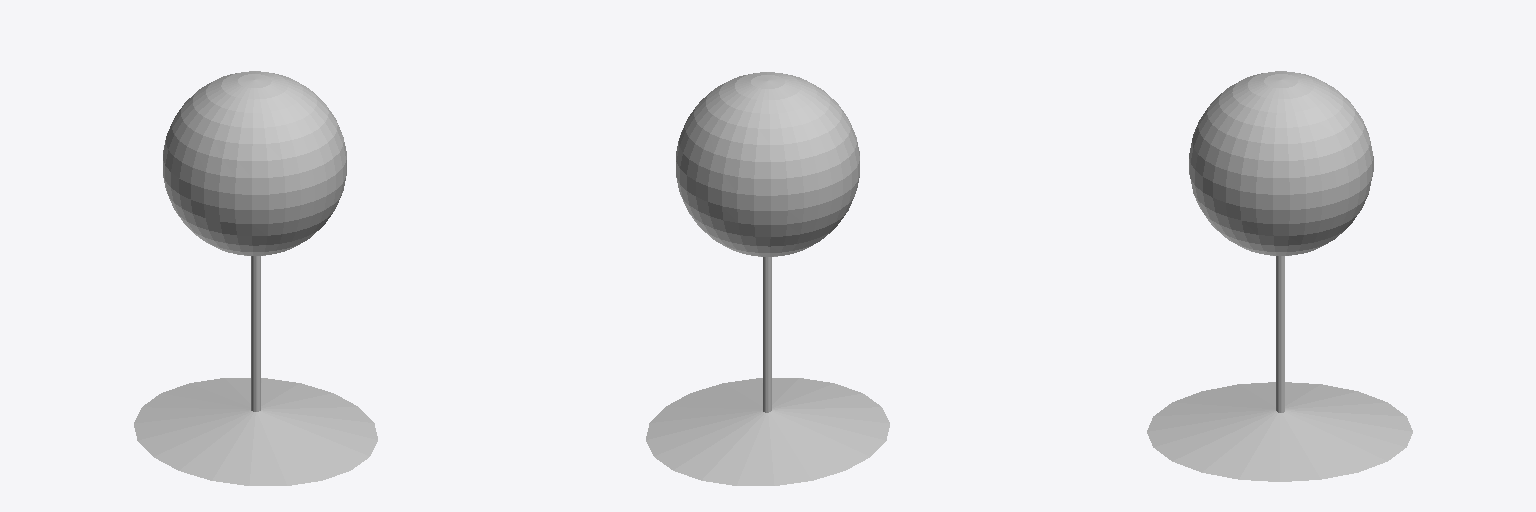
The model's file is glass1.obj.
3 views of the same model, side by side, from view 1: azimuth 30°, elevation 25°; view 2: azimuth 150°, elevation 25°; view 3: azimuth 270°, elevation 25° (orthographic).
Parts seen in each view (by area): view 1: sphere, initialShadingGroup pCone1, initialShadingGroup pCylinder1; view 2: sphere, initialShadingGroup pCone1, initialShadingGroup pCylinder1; view 3: sphere, initialShadingGroup pCone1, initialShadingGroup pCylinder1.
Part boxes in pixels (bbox=[...]): sphere: bbox=[163, 71, 346, 255]; initialShadingGroup pCone1: bbox=[134, 378, 377, 485]; initialShadingGroup pCylinder1: bbox=[251, 256, 260, 411]; sphere: bbox=[676, 72, 859, 256]; initialShadingGroup pCone1: bbox=[646, 378, 889, 485]; initialShadingGroup pCylinder1: bbox=[763, 257, 771, 412]; sphere: bbox=[1189, 71, 1373, 255]; initialShadingGroup pCone1: bbox=[1147, 382, 1412, 481]; initialShadingGroup pCylinder1: bbox=[1276, 256, 1284, 412].
Size of the model in its own units: 0.5992 by 0.9793 by 0.6721.